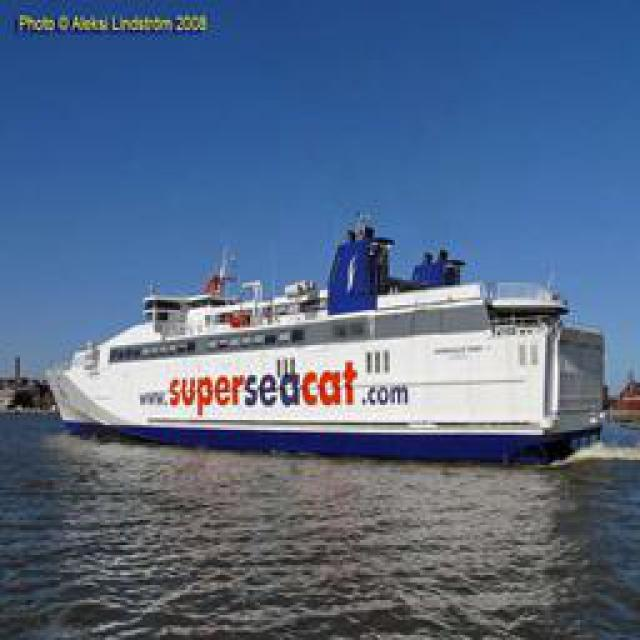Ship: (47, 207, 615, 460)
